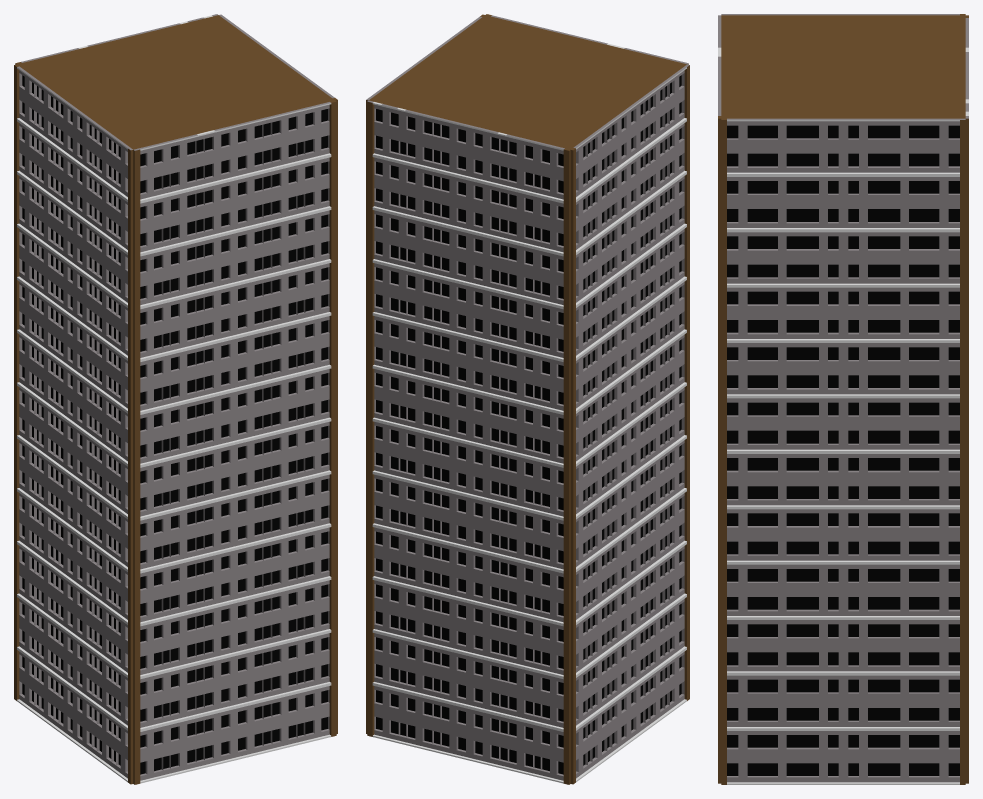
Rendered from 建物大_高レア_1.fbx.
3 renders of one model, left to right at view 1: azimuth 30°, elevation 25°; view 2: azimuth 150°, elevation 25°; view 3: azimuth 270°, elevation 25°, orthographic. The views are drawn at different scales.
Visible parts, largest first — view 1: Cube.059; view 2: Cube.059; view 3: Cube.059.
Part boxes in pixels (bbox=[...]): Cube.059: bbox=[14, 14, 337, 784]; Cube.059: bbox=[366, 14, 689, 784]; Cube.059: bbox=[718, 14, 968, 784].
Bounding box in the file's own units: 892 × 892 × 2610.
